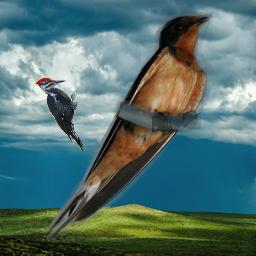Swallow: (38, 9, 215, 240)
Woodpecker: (35, 77, 83, 151)
